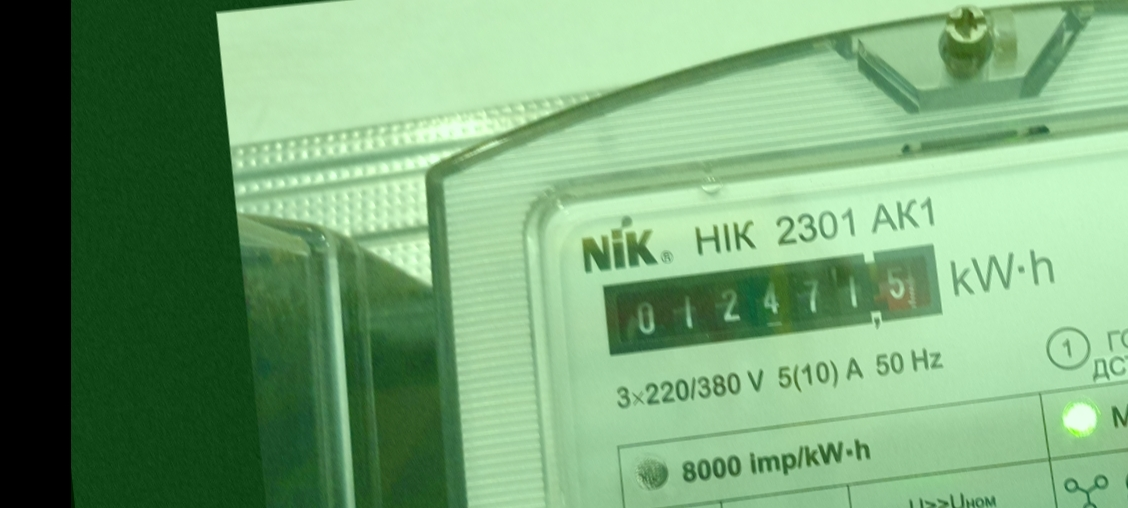0: (634, 297, 661, 335)
1: (682, 293, 698, 329), (847, 271, 861, 308)
2: (721, 285, 745, 323)
4: (761, 278, 784, 316)
5: (886, 261, 911, 301)
7: (801, 275, 825, 315)
screen: (592, 233, 958, 365)
